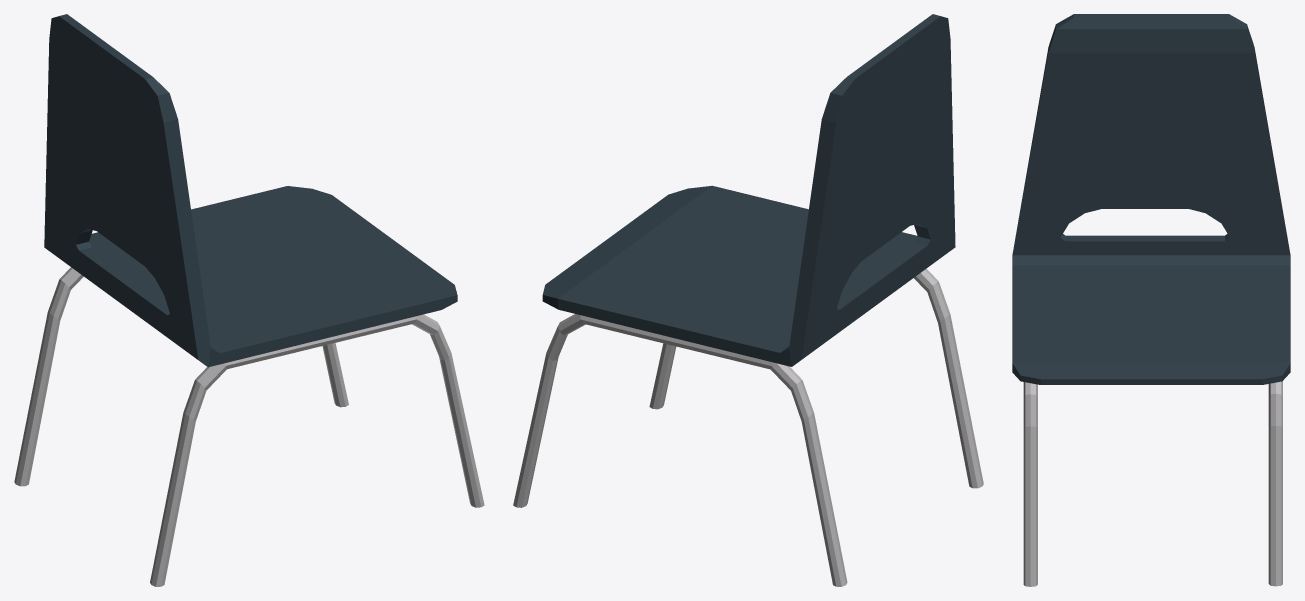
File: SM_Chair_02.glb
3 views of the same model, side by side, from view 1: azimuth 30°, elevation 25°; view 2: azimuth 150°, elevation 25°; view 3: azimuth 270°, elevation 25° (orthographic). The views are drawn at different scales.
Visible parts, largest first — view 1: SM_Chair_02; view 2: SM_Chair_02; view 3: SM_Chair_02.
Part boxes in pixels (x1=…): SM_Chair_02: x1=14, y1=14, x2=484, y2=586; SM_Chair_02: x1=513, y1=14, x2=983, y2=586; SM_Chair_02: x1=1012, y1=14, x2=1290, y2=586.
Bounding box in the file's own units: 0.7947 × 1.11 × 0.6405.
2 materials, 1 textured.
